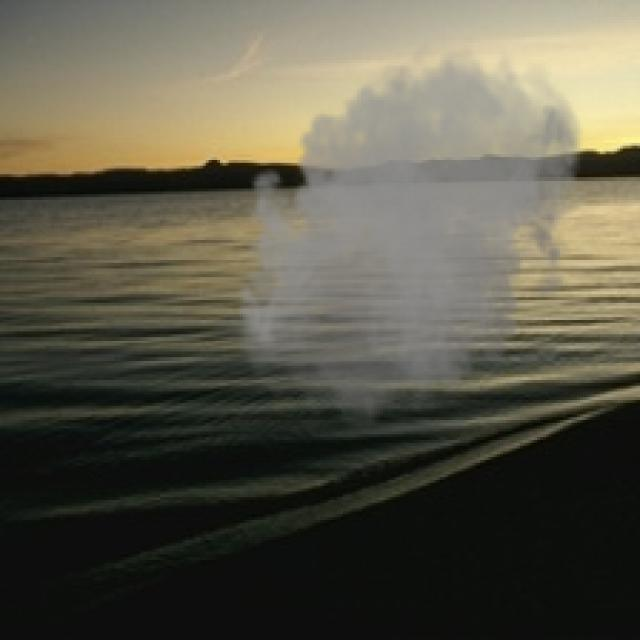smoke: (226, 37, 588, 443)
